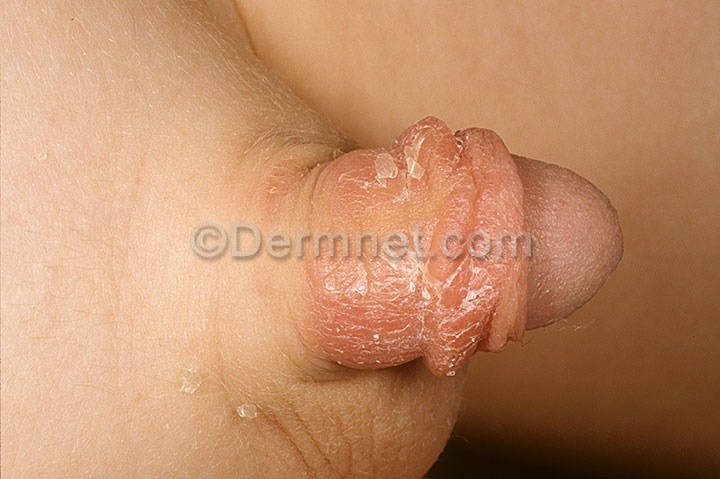Psoriasis: (312, 133, 537, 380)
